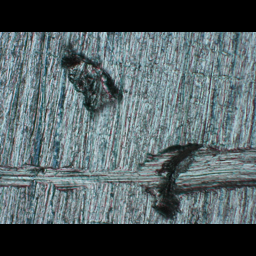d: (0, 138, 254, 220), (56, 45, 125, 115)
